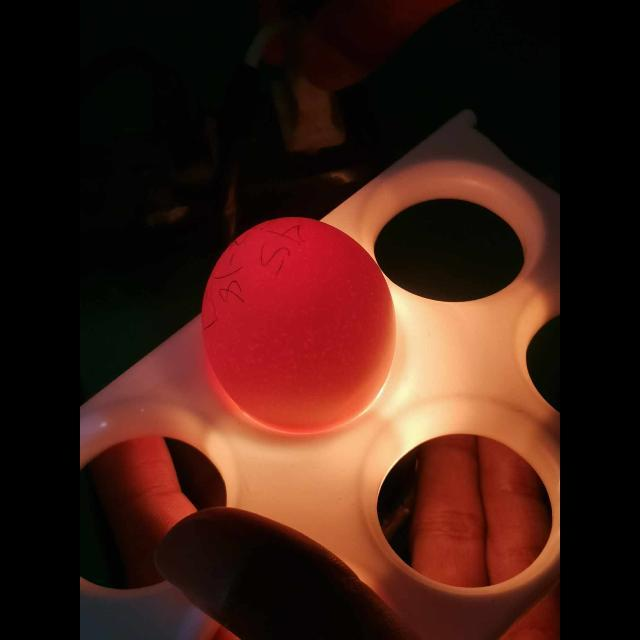Infertile: (196, 213, 398, 434)
